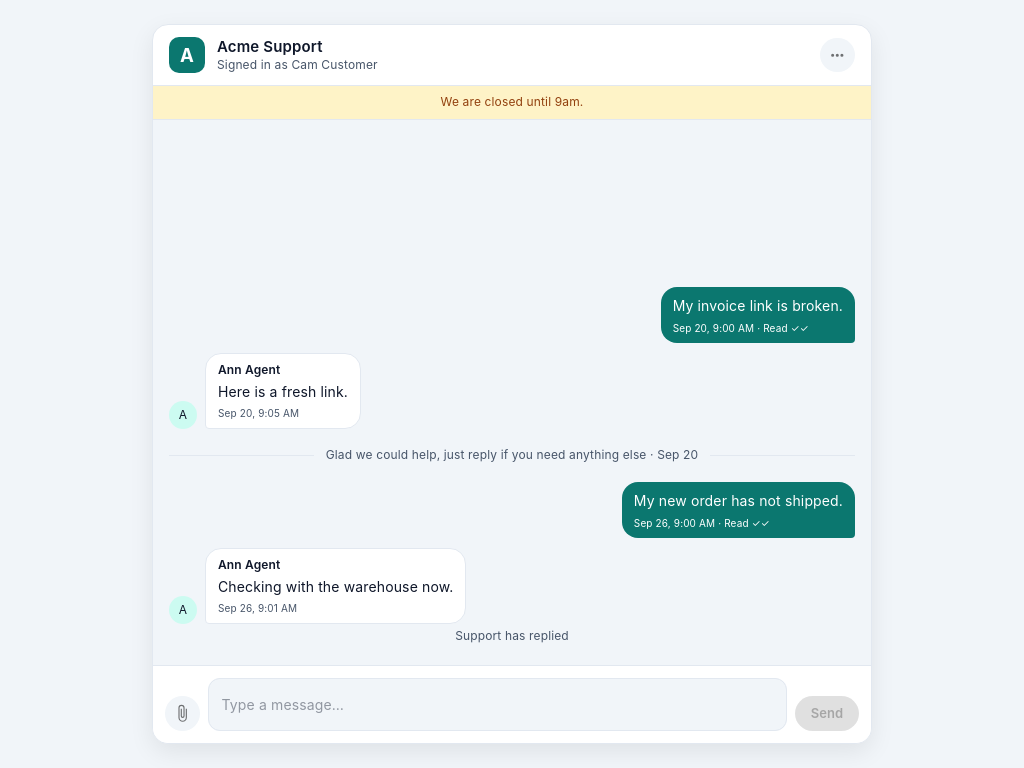
ChatPage out-of-hours banner › still lets the customer send a message while the banner is up
Expected: the text "Checking with the warehouse now." is shown, left=218, top=576, right=454, bottom=597
Type "Anyone there?" into the text box labelled "message" at (497, 704), box left=222, top=694, right=773, bottom=714
Then press Enter
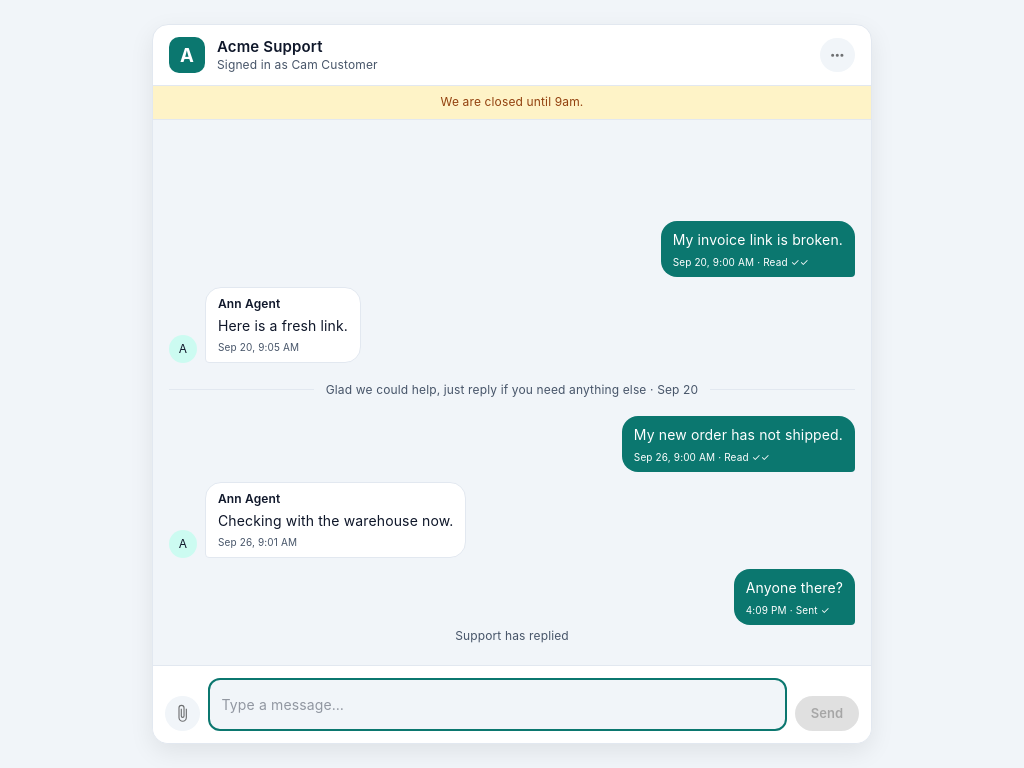
Expected: the message reads "We are closed until 9am.", left=441, top=94, right=584, bottom=109
Now the text "Anyone there?" is shown, box left=746, top=576, right=843, bottom=598
